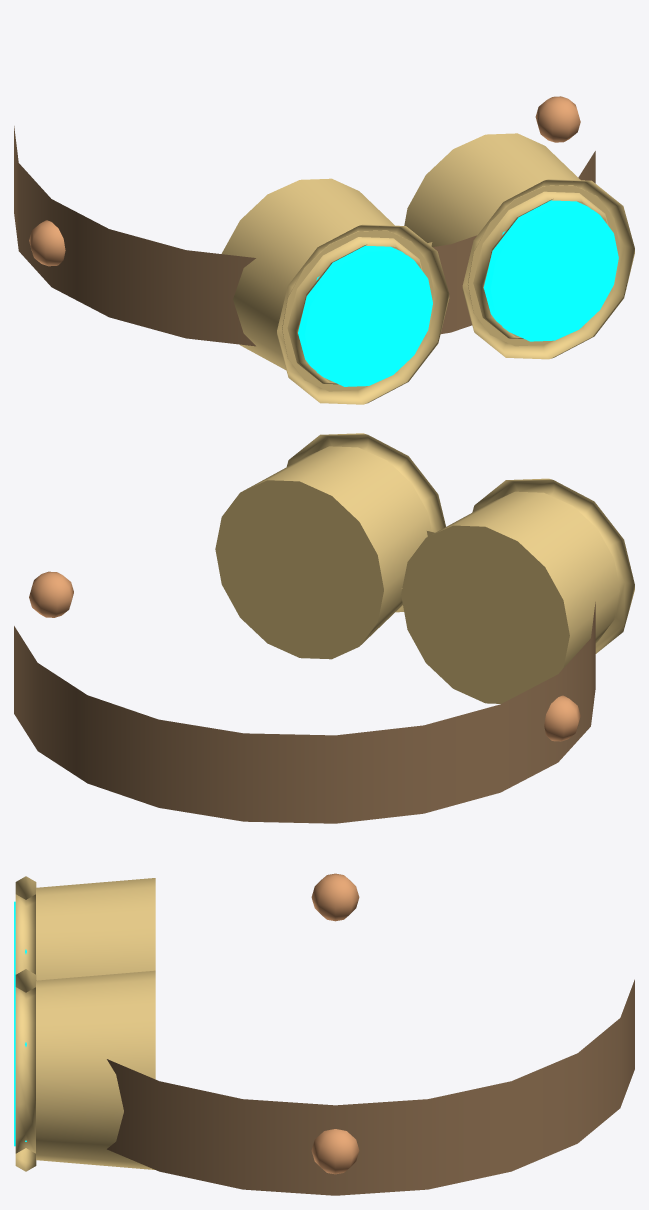
The model's file is goggles_steampunk.glb.
3 views of the same model, one above another, from view 1: azimuth 30°, elevation 25°; view 2: azimuth 150°, elevation 25°; view 3: azimuth 270°, elevation 25° (orthographic). The views are drawn at different scales.
Visible parts, largest first — view 1: frames, lenses, strap, rivets; view 2: frames, strap, rivets; view 3: strap, frames, rivets, lenses.
Boxes of the visible parts, x1=… form: frames: x1=221, y1=133, x2=634, y2=404; lenses: x1=298, y1=200, x2=618, y2=386; strap: x1=14, y1=126, x2=595, y2=346; rivets: x1=29, y1=96, x2=580, y2=266; frames: x1=215, y1=433, x2=634, y2=703; strap: x1=14, y1=602, x2=595, y2=823; rivets: x1=29, y1=571, x2=580, y2=741; strap: x1=107, y1=979, x2=634, y2=1195; frames: x1=15, y1=876, x2=155, y2=1171; rivets: x1=311, y1=873, x2=359, y2=1174; lenses: x1=14, y1=901, x2=26, y2=1146.
Bounding box in the file's own units: 0.324 × 0.102 × 0.311.
